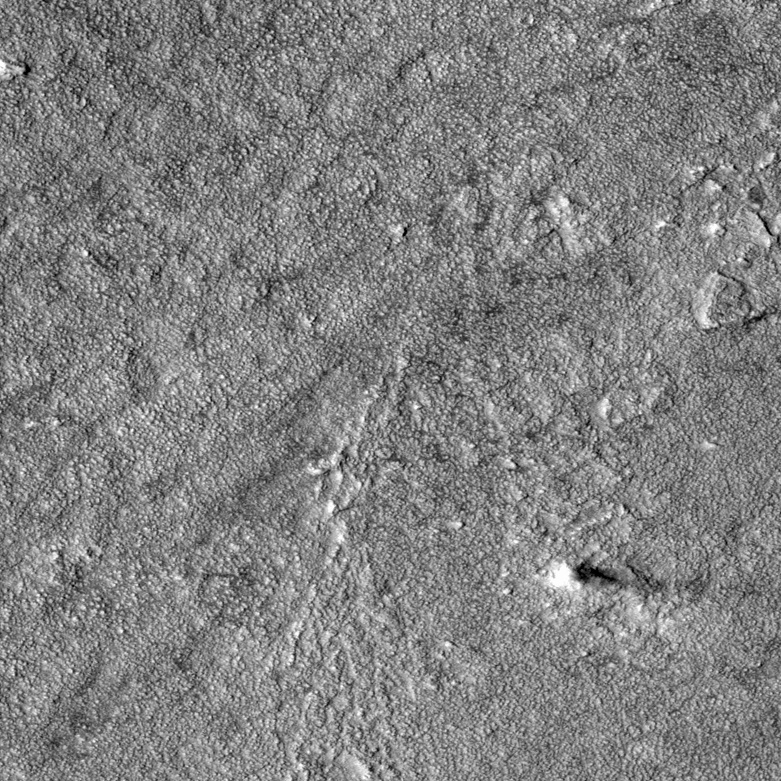dust_devil: (541, 556, 667, 602)
